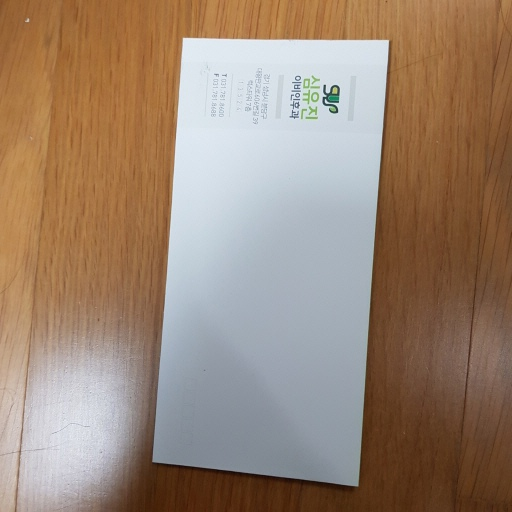Paper_2: (147, 30, 393, 499)
